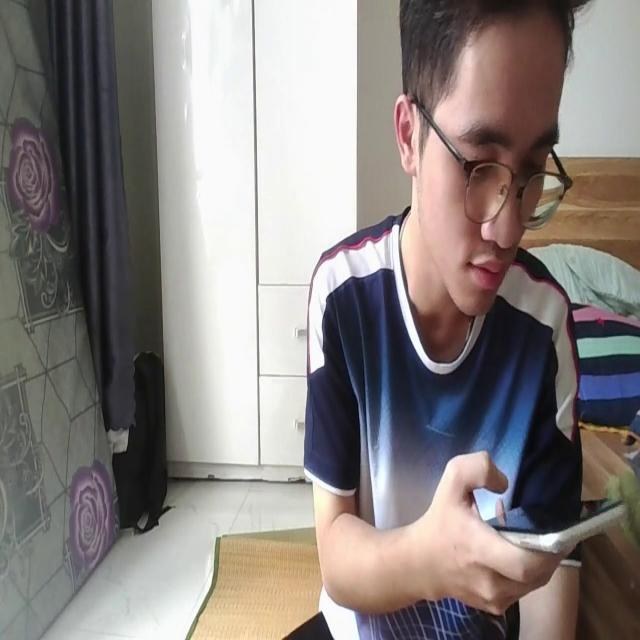phone: (477, 487, 628, 563)
student: (306, 2, 582, 640)
